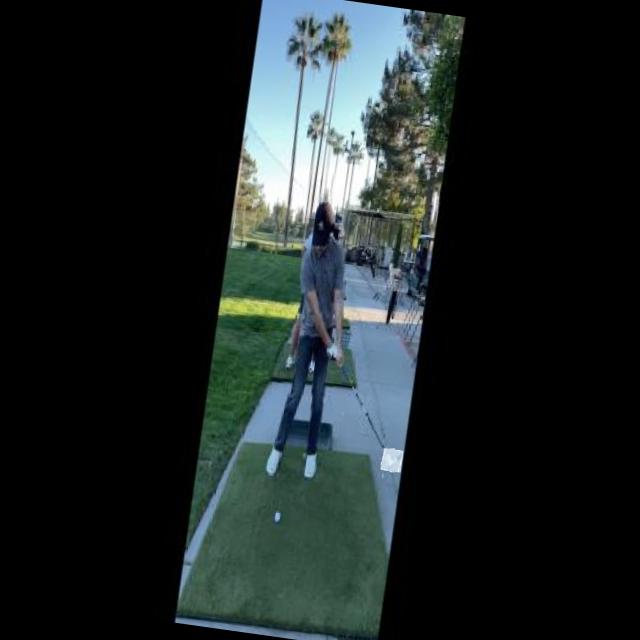club head: (381, 448, 404, 473)
